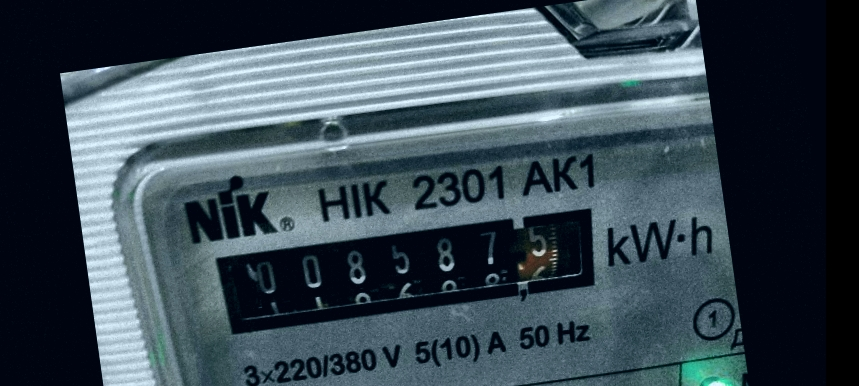0: (296, 248, 325, 291)
1: (250, 255, 280, 299)
5: (523, 218, 552, 261), (386, 237, 414, 278)
7: (474, 226, 503, 269)
8: (340, 244, 370, 288), (431, 232, 457, 276)
screen: (192, 183, 623, 359)
